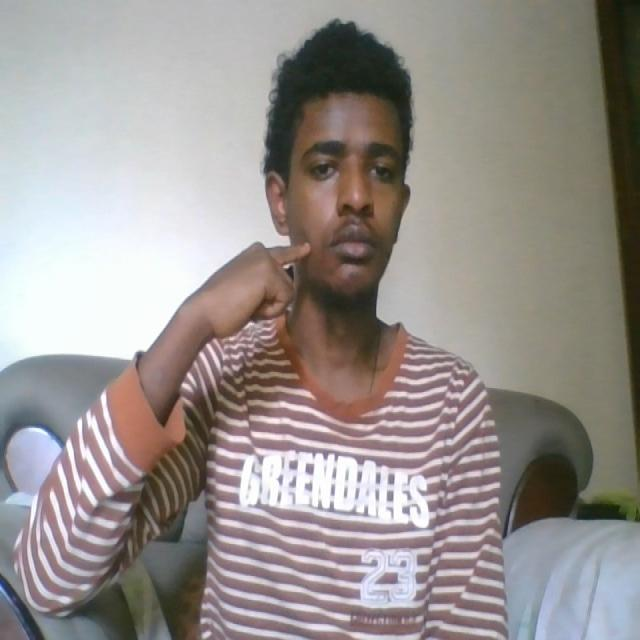enkuan_dehna_metachu: (187, 236, 320, 341)
